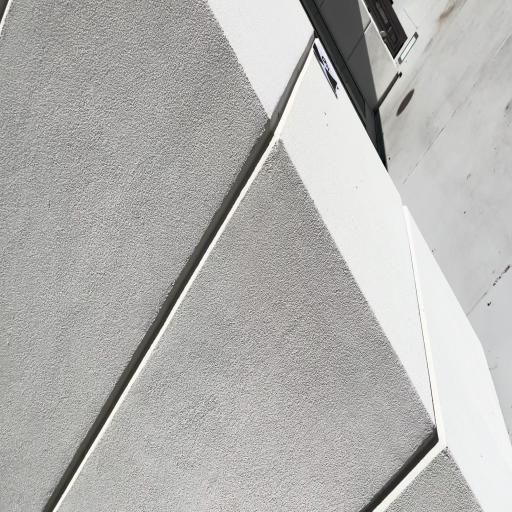target9: (312, 40, 338, 96)
